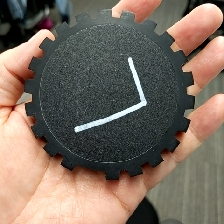gear: (22, 7, 196, 182)
missing: (60, 153, 120, 182)
